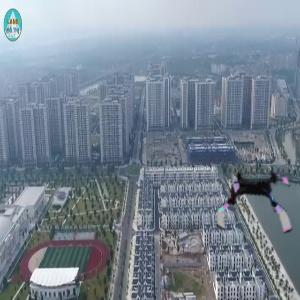drone: (211, 161, 297, 247)
